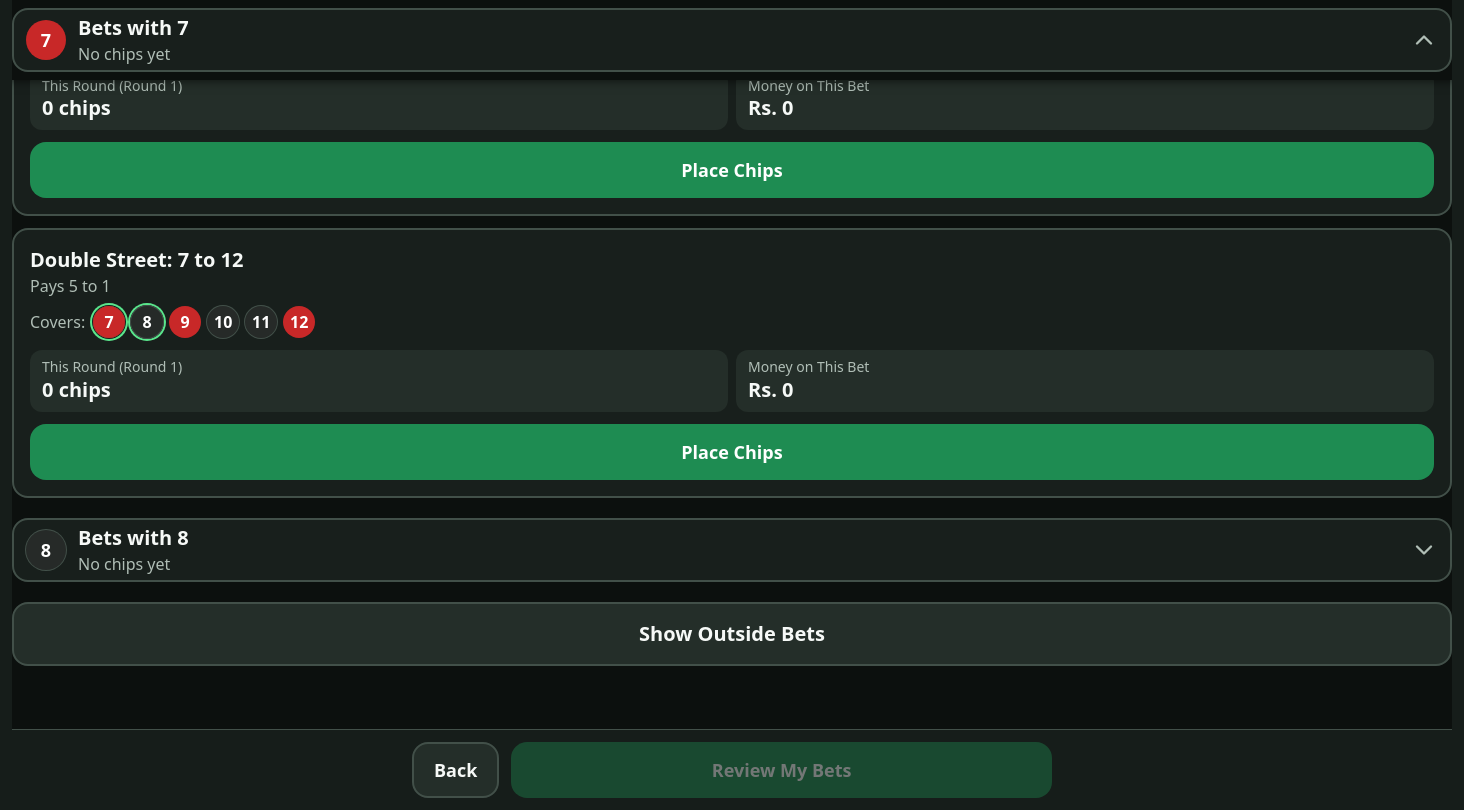
Test 6 – Outside Bets default and toggle (screen) › is hidden when the betting screen opens; the toggle shows and hides it without deleting bets
(page scrolled)
Click the button "Show Outside Bets" at (732, 634), box [12,602,1452,666]
(page scrolled)
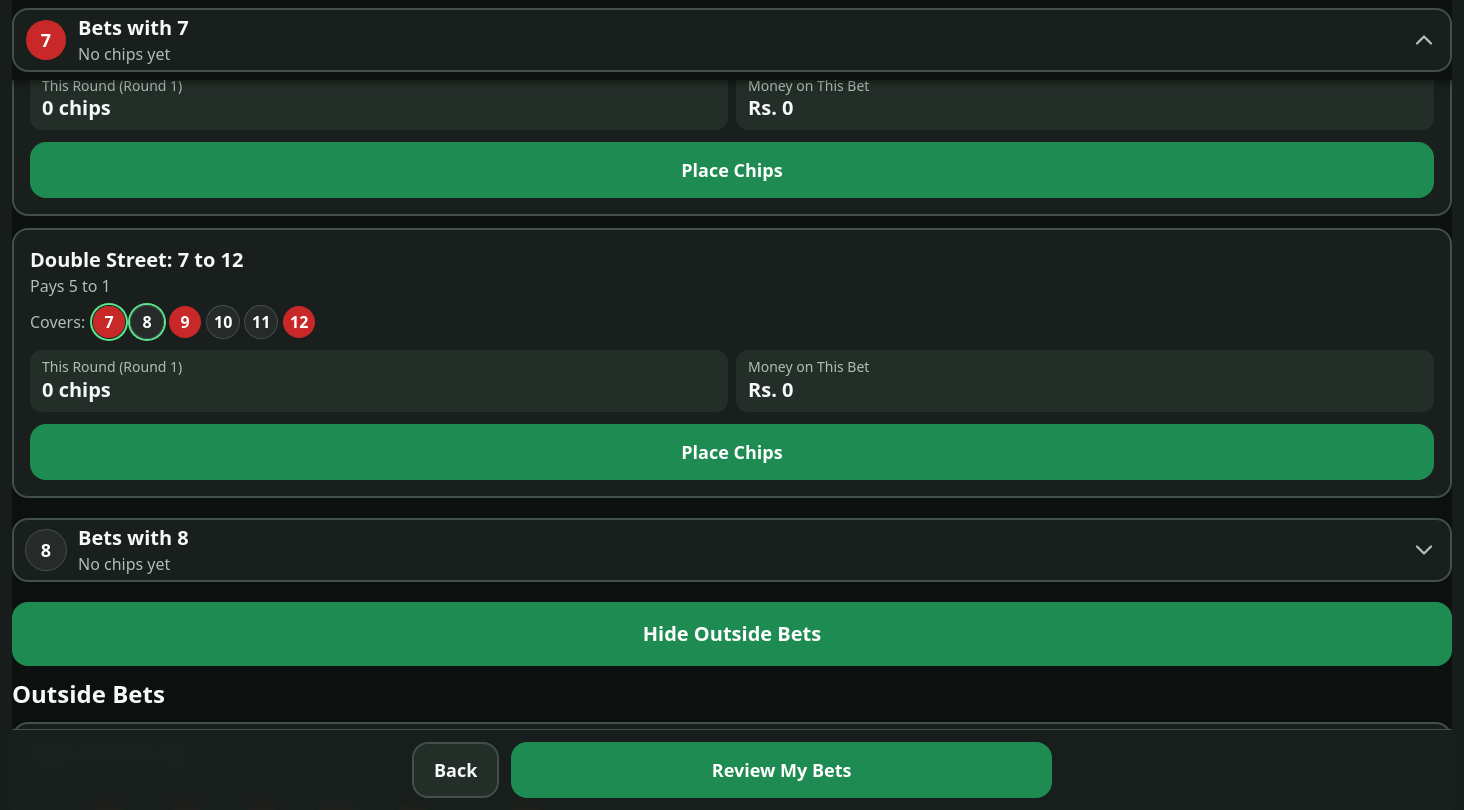
Click the button "Hide Outside Bets" at (732, 634), box [12,602,1452,666]
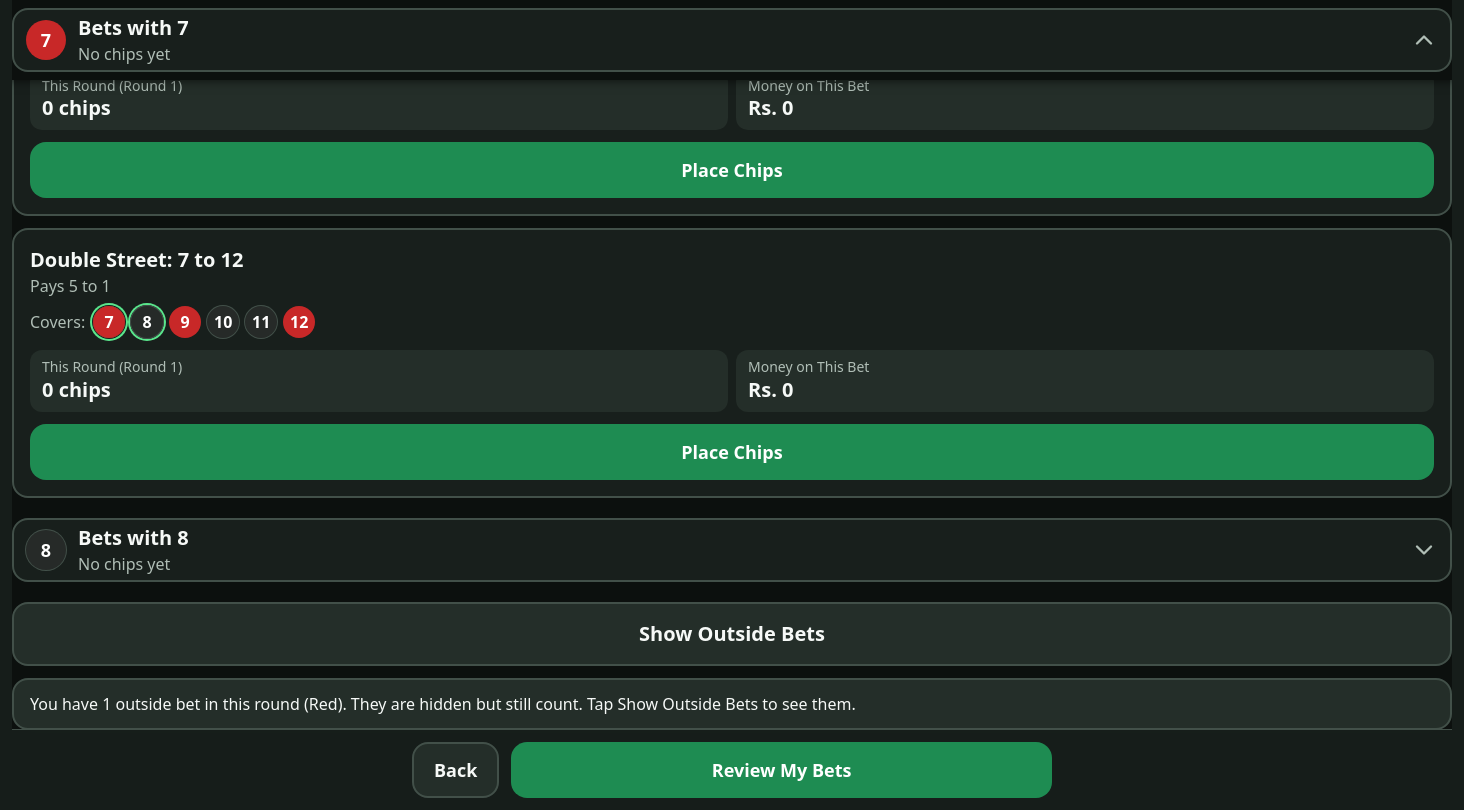
Expected: the text "1 outside bet in this round" is shown, [12,678,1452,730]
